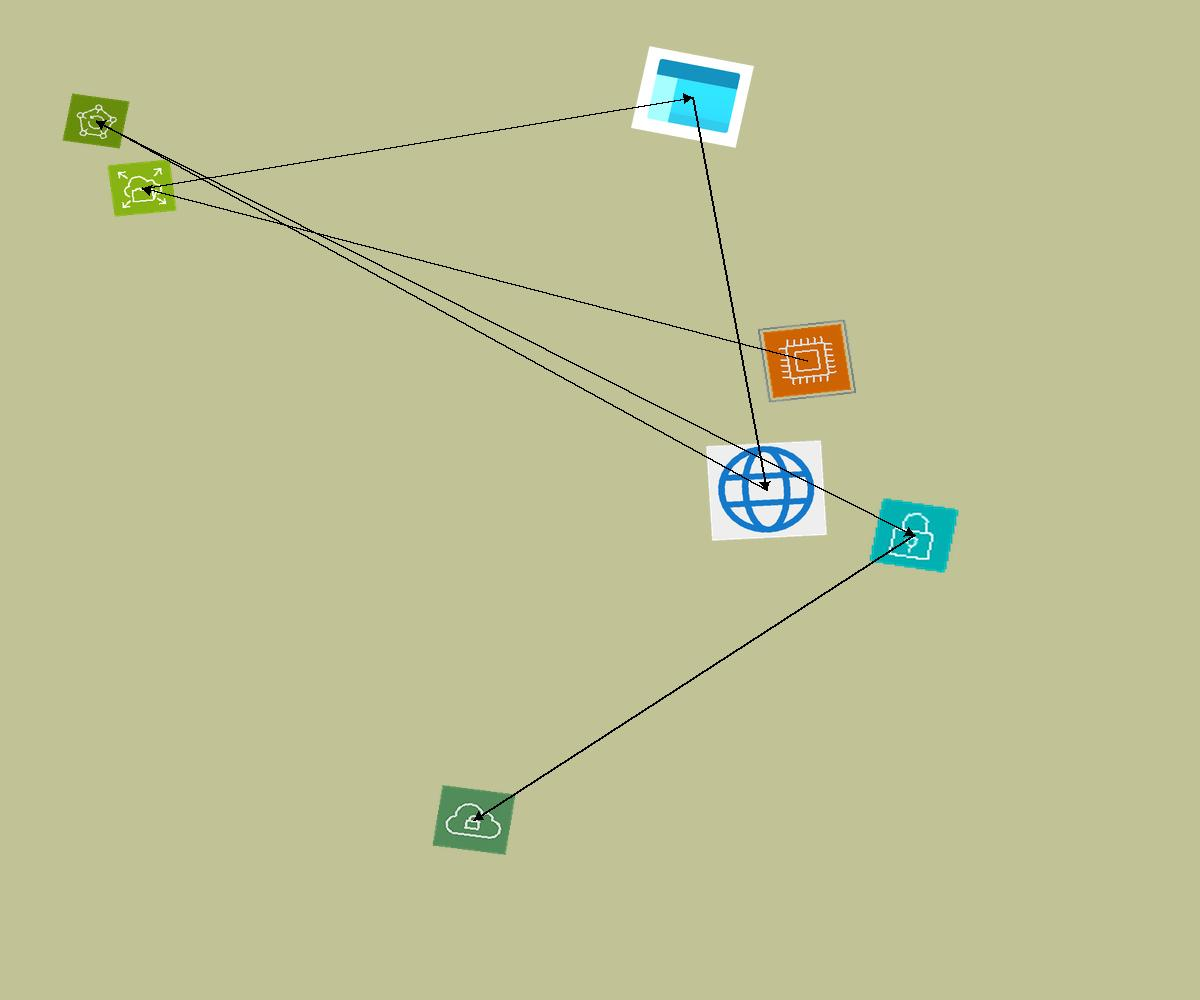AWS-Backup: (62, 93, 130, 149)
AWS-Category_Compute: (757, 319, 857, 403)
AWS-EFS: (107, 159, 177, 217)
AWS-Private-subnet: (868, 497, 960, 574)
AWS-Private_vpc: (432, 785, 516, 855)
Azure_http: (706, 440, 827, 541)
Azure_management-portal: (631, 46, 754, 148)
